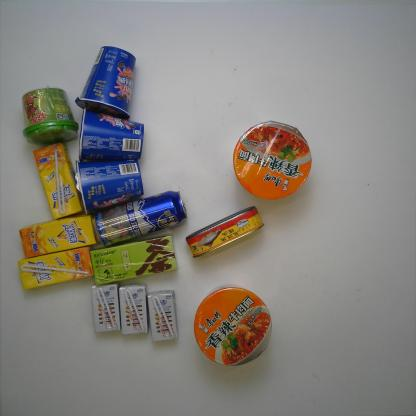Alcohol: (91, 188, 190, 249)
Canned Food: (185, 203, 265, 261)
Dessert: (75, 43, 142, 121), (72, 157, 146, 217), (75, 107, 148, 166)
Drink: (30, 140, 85, 223), (14, 244, 96, 293), (17, 213, 98, 260)
Instant Drink: (89, 233, 181, 288), (19, 82, 79, 146)
Instant Noodles: (231, 117, 314, 203), (192, 283, 274, 369)
Milk: (146, 287, 181, 343), (90, 282, 123, 336), (118, 283, 150, 338)
